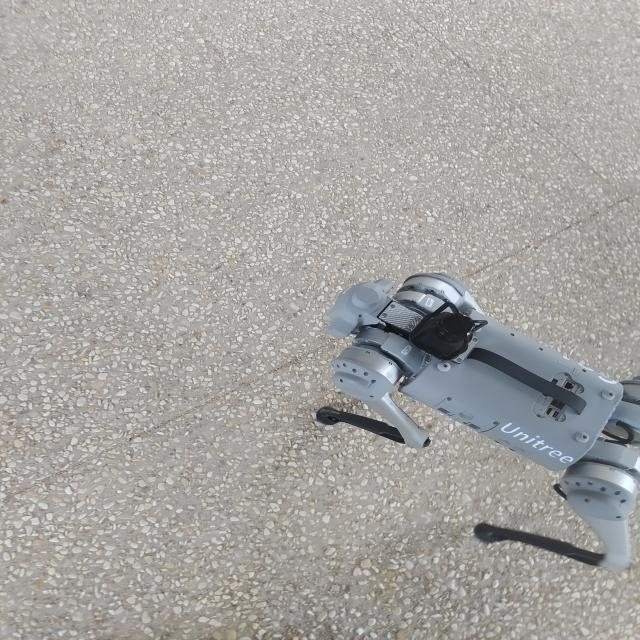unitree-go1-robot: (299, 257, 640, 585)
